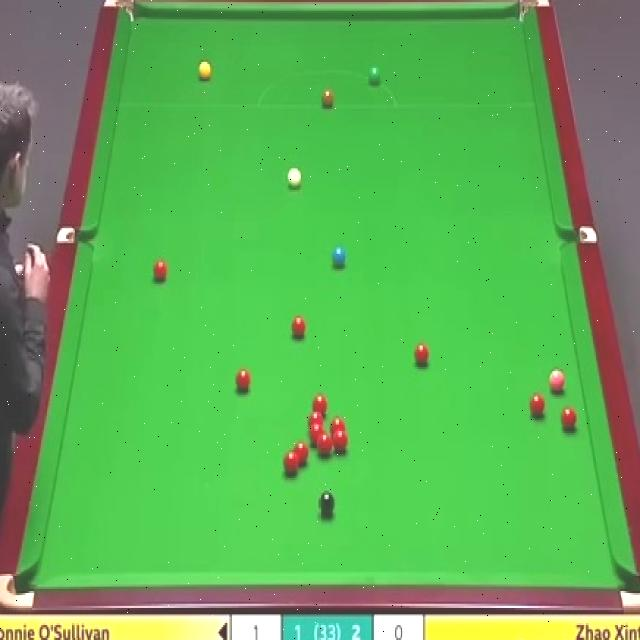black-ball: (318, 491, 336, 514)
blue-ball: (331, 245, 348, 269)
brown-ball: (320, 88, 334, 108)
green-ball: (367, 63, 382, 84)
pink-ball: (547, 369, 567, 393)
red-ball: (559, 405, 577, 430), (530, 390, 546, 418), (412, 341, 430, 365), (290, 314, 306, 340), (293, 440, 309, 466), (284, 449, 300, 475), (234, 367, 250, 390), (334, 428, 348, 453), (312, 393, 327, 416), (152, 260, 167, 283), (318, 432, 332, 456), (310, 423, 324, 445), (329, 415, 346, 432), (307, 411, 323, 429)
white-ball: (286, 166, 302, 190)
yellow-ball: (198, 61, 211, 83)
